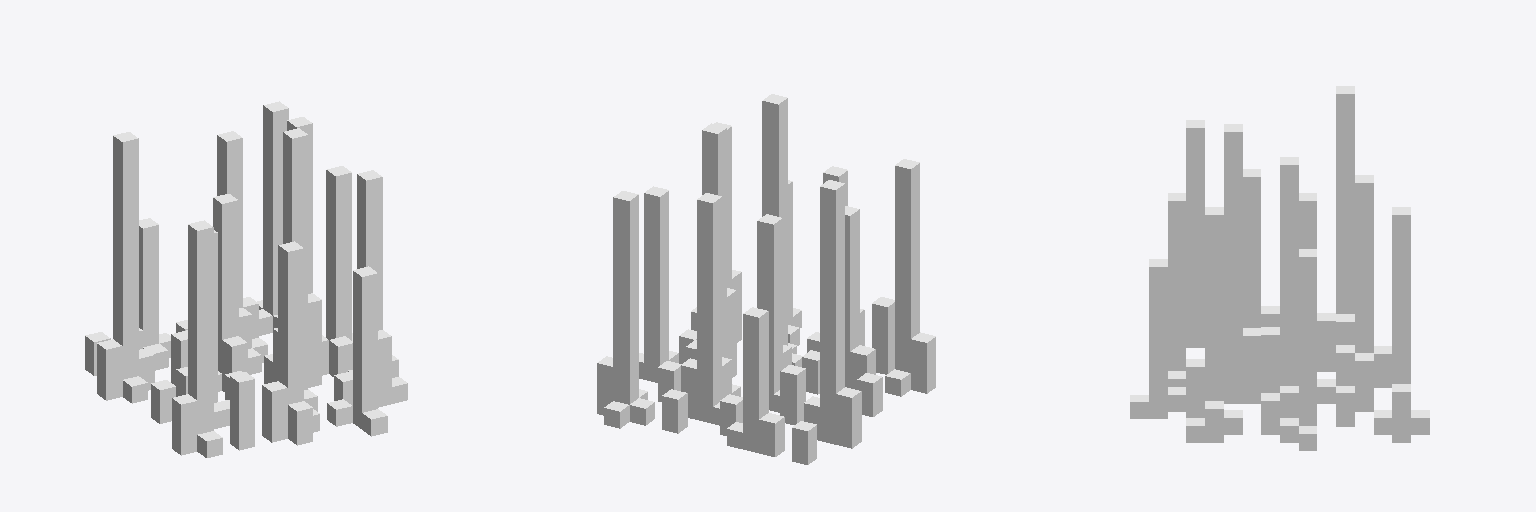
File: grassblockye-2.obj
3 views of the same model, side by side, from view 1: azimuth 30°, elevation 25°; view 2: azimuth 150°, elevation 25°; view 3: azimuth 270°, elevation 25° (orthographic).
Visible parts, largest first — view 1: object 1; view 2: object 1; view 3: object 1.
Part boxes in pixels (x1,y1,x2,y2): object 1: (85,101,407,457); object 1: (597,94,935,464); object 1: (1130,86,1429,450).
Size of the model in its own units: 1.5 by 1.6 by 1.6.